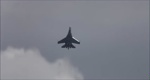maybay_muctieu: (57, 26, 80, 51)
